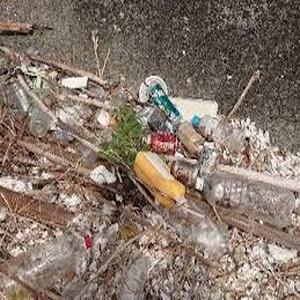Plastic: (195, 173, 298, 223), (189, 112, 246, 154)
